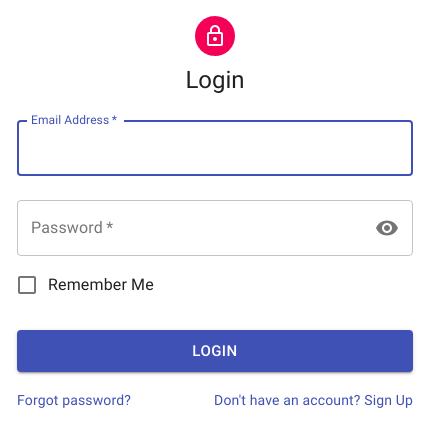
Scenario: Form filling › During submit, button is disabled
Click the button with test id "submit-button": (215, 351) 17,330 -> 413,372
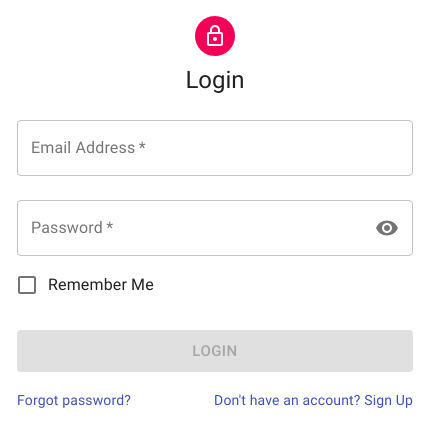
Now the button with test id "submit-button" is disabled, box 17,330 -> 413,372
